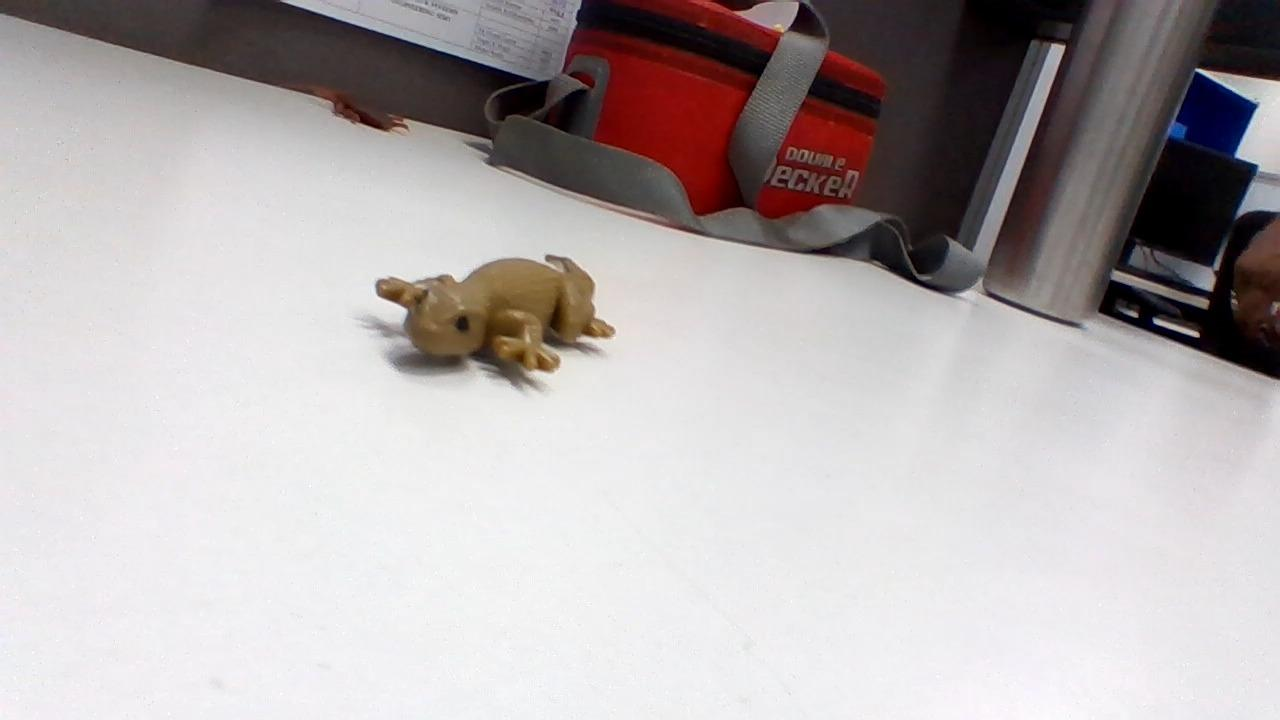lizard: (372, 237, 617, 379)
